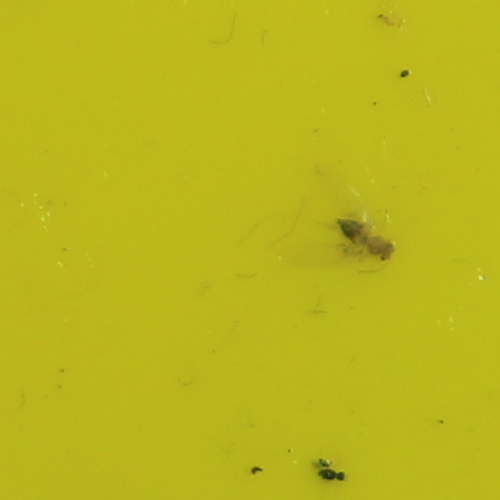Glycaspis: (337, 217, 395, 261)
